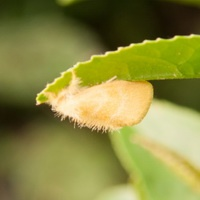insect: (36, 69, 152, 131)
